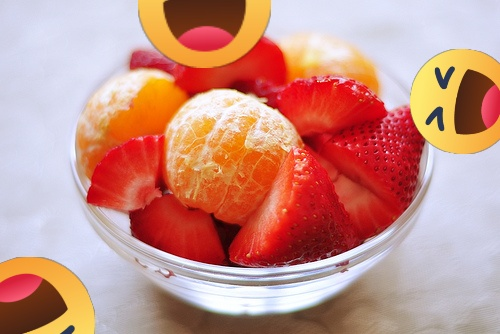haha: (410, 49, 500, 154), (138, 0, 271, 68), (0, 257, 95, 334)
